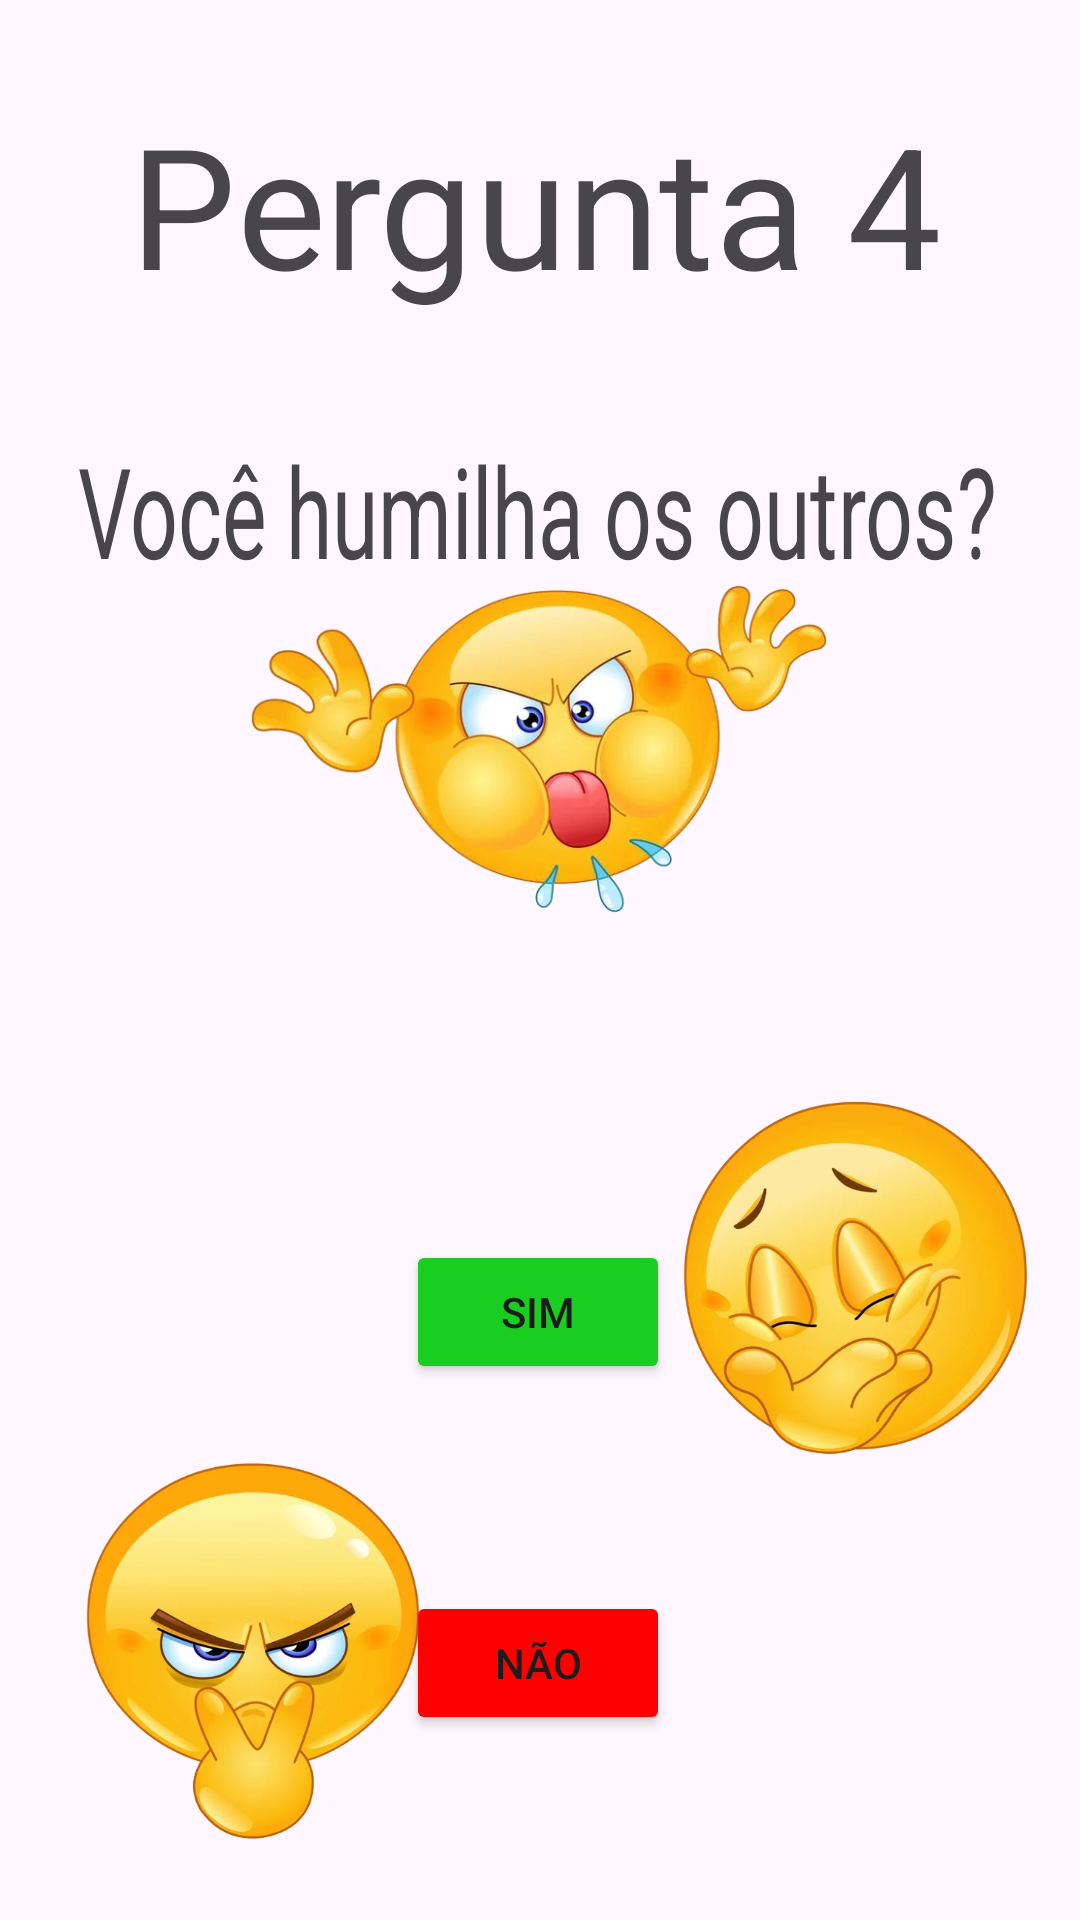

Where icons sit on this 1080 x 1920 app screen, as Rect(x1, y1, x2, y2):
hihihi: Rect(684, 1101, 1028, 1454)
